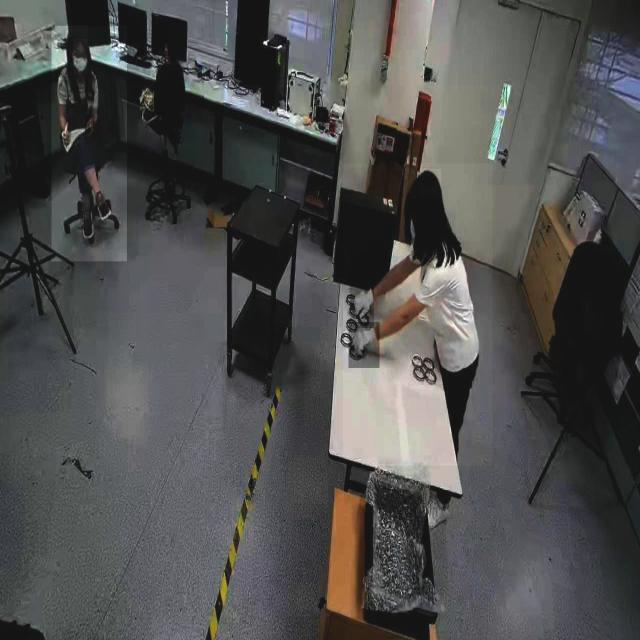face_mask: (73, 38, 88, 76)
hand_glove: (348, 322, 380, 369), (350, 280, 374, 328)
hand_noglove: (60, 125, 70, 146), (85, 115, 95, 135)
head_nohelmet: (408, 169, 442, 200), (66, 24, 88, 38)
person: (343, 164, 493, 466), (51, 26, 128, 262)
shoes: (81, 202, 97, 244), (93, 190, 112, 224)
